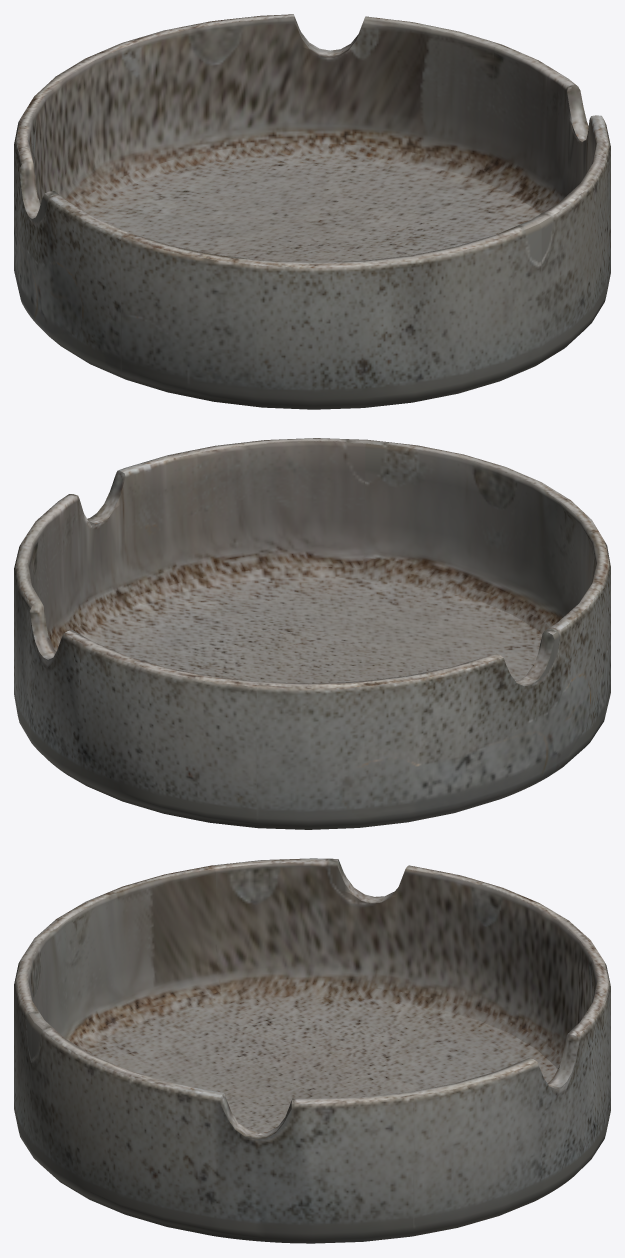
The model's file is Ashtray.fbx.
3 renders of one model, top to bottom at view 1: azimuth 30°, elevation 25°; view 2: azimuth 150°, elevation 25°; view 3: azimuth 270°, elevation 25°, orthographic.
Visible parts, largest first — view 1: Ashtray_Low; view 2: Ashtray_Low; view 3: Ashtray_Low.
Boxes of the visible parts, <box> form: Ashtray_Low: <box>14,14,610,409</box>; Ashtray_Low: <box>14,438,610,829</box>; Ashtray_Low: <box>14,858,610,1243</box>.
Bounding box in the file's own units: 0.3494 × 0.0938 × 0.3558.
